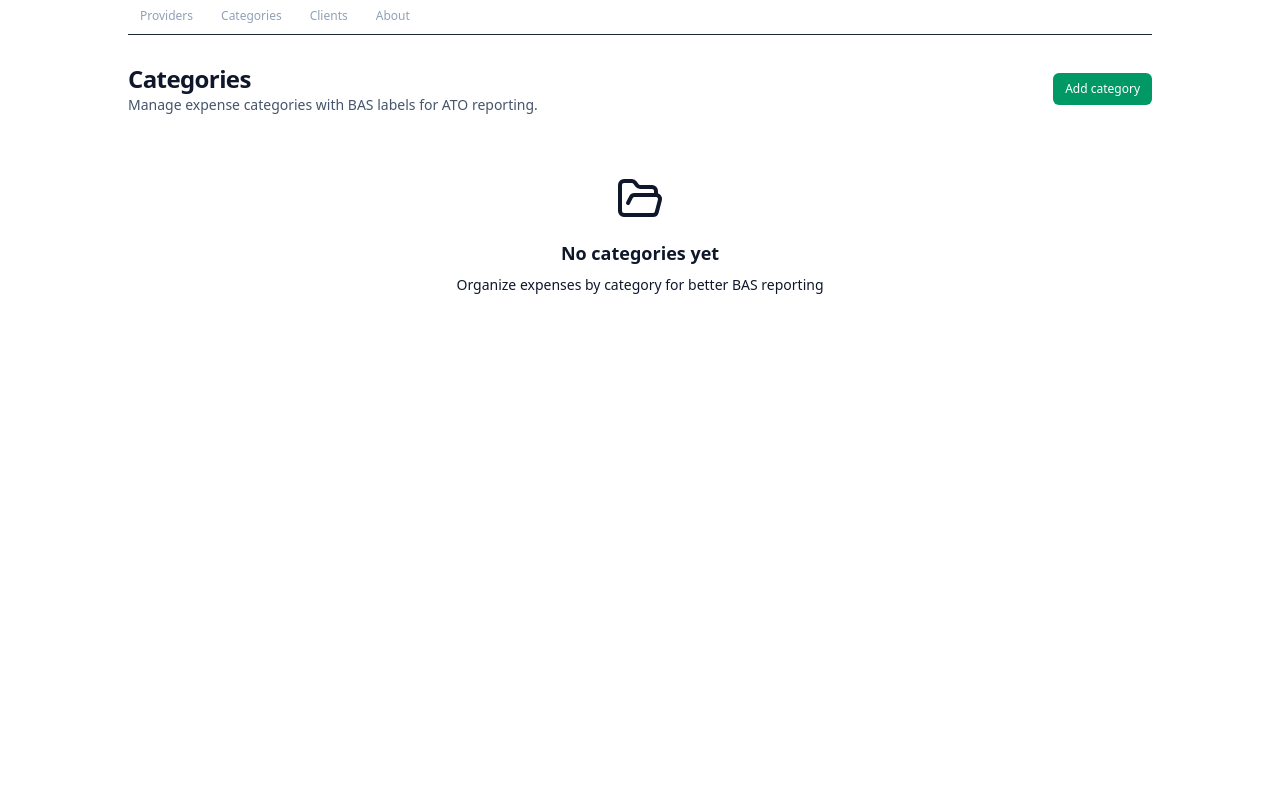
Scenario: CategoriesPage › opens create modal when Add category button is clicked
Click the button "Add category".
click(1103, 89)  # box [1053,73,1152,105]
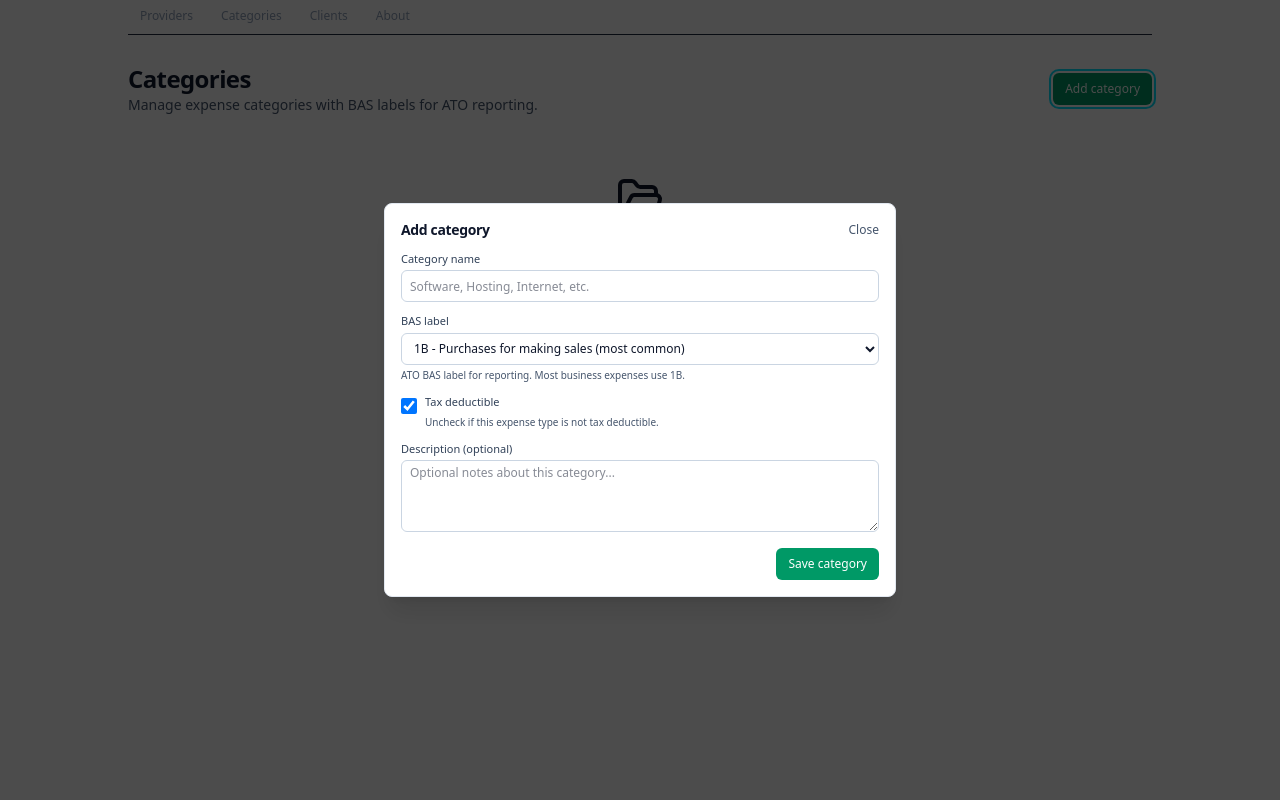
Now the dialog "Add category" is shown
Now the field labelled "Category name" is shown, box [401,270,879,302]
